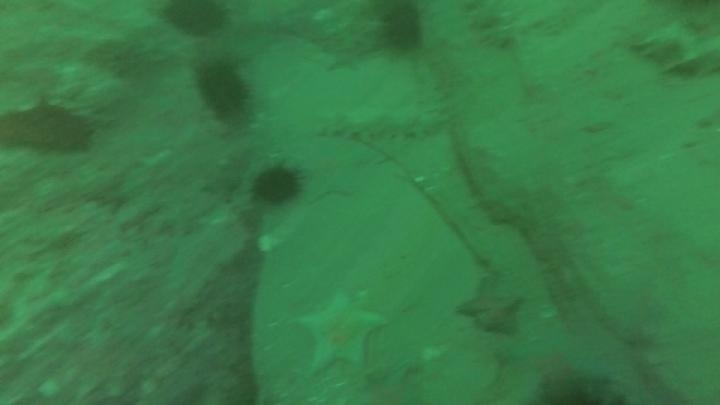echinus: (1, 100, 93, 156), (192, 57, 255, 124), (375, 3, 427, 56), (161, 1, 230, 39), (251, 162, 304, 207)
holothurian: (626, 18, 719, 80), (314, 104, 445, 148)
starfish: (495, 318, 619, 405), (294, 287, 388, 376), (293, 136, 378, 206), (455, 277, 528, 338), (357, 361, 427, 404)
